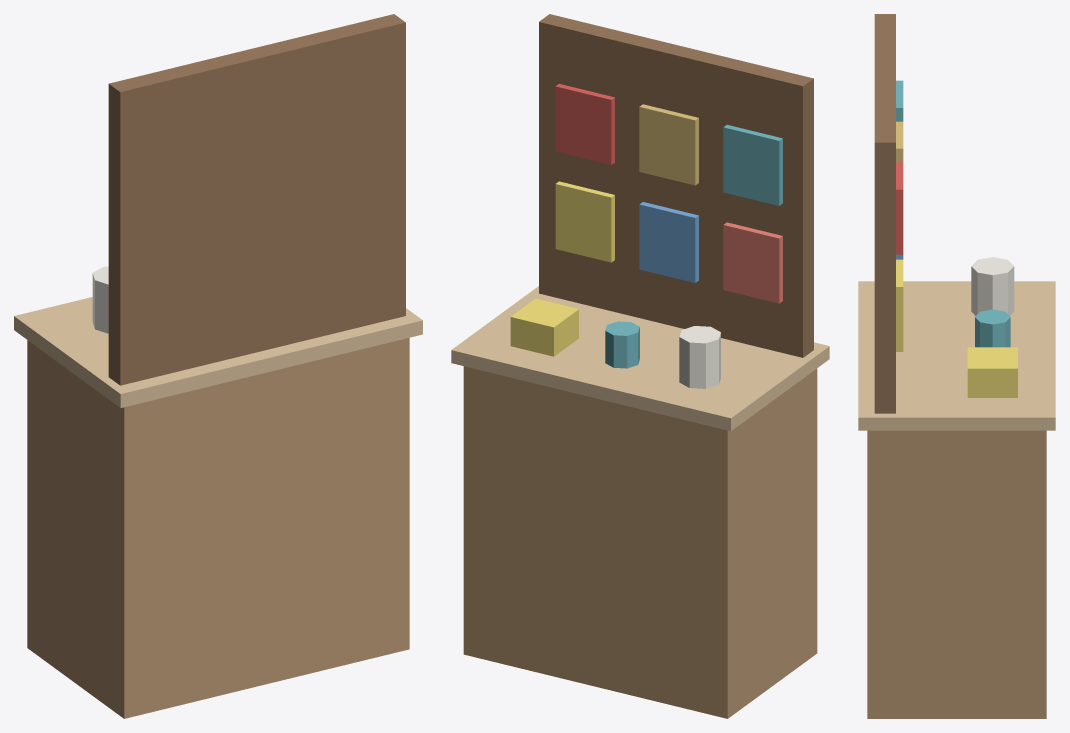
File: souvenir_stand.glb
3 views of the same model, side by side, from view 1: azimuth 30°, elevation 25°; view 2: azimuth 150°, elevation 25°; view 3: azimuth 270°, elevation 25° (orthographic). The views are drawn at different scales.
Visible parts, largest first — view 1: souvenir_stand; view 2: souvenir_stand; view 3: souvenir_stand.
Part boxes in pixels (bbox=[...]): souvenir_stand: bbox=[14, 14, 422, 718]; souvenir_stand: bbox=[451, 14, 829, 718]; souvenir_stand: bbox=[858, 14, 1055, 718].
Bounding box in the file's own units: 0.9 × 1.77 × 0.55.
